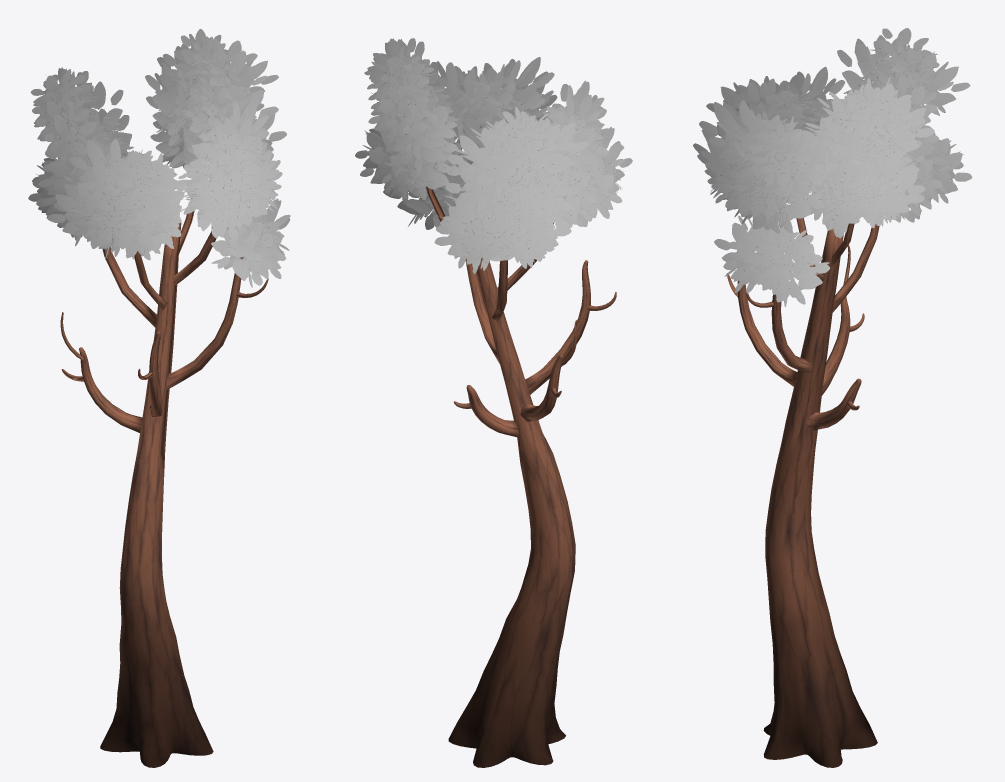
File: CommonTree_4.gltf
3 renders of one model, left to right at view 1: azimuth 30°, elevation 25°; view 2: azimuth 150°, elevation 25°; view 3: azimuth 270°, elevation 25°, orthographic. The views are drawn at different scales.
Parts seen in each view (by area): view 1: CommonTree_4; view 2: CommonTree_4; view 3: CommonTree_4.
Part boxes in pixels (bbox=[...]): CommonTree_4: bbox=[28, 29, 290, 767]; CommonTree_4: bbox=[355, 38, 632, 767]; CommonTree_4: bbox=[693, 28, 972, 767].
Size of the model in its own units: 3.83 by 9.44 by 3.76.
2 materials, 2 textured.
